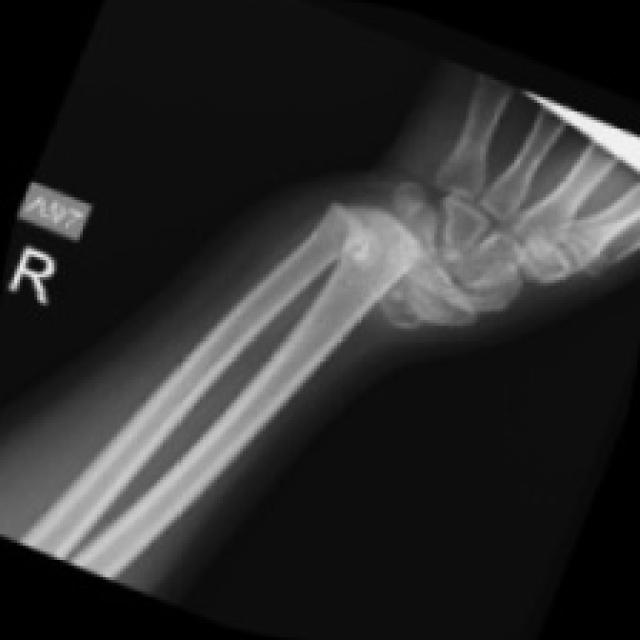fracture: (291, 147, 440, 264)
